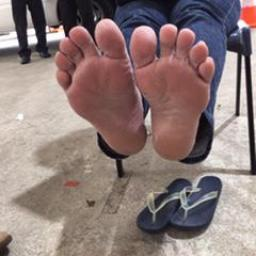Plantar View -Both Feet-: (47, 10, 220, 166)
